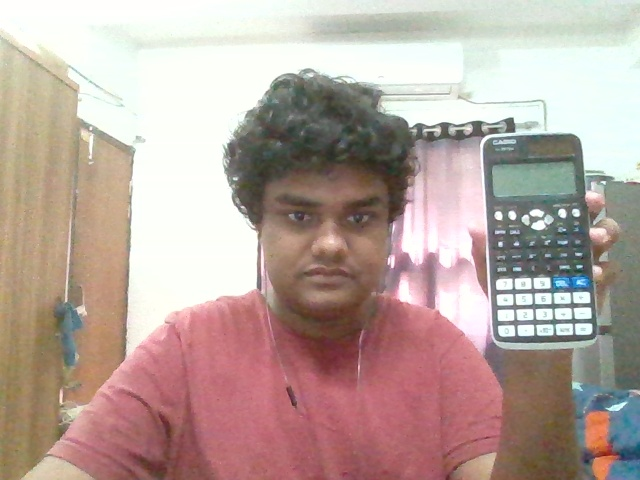calculator: (480, 131, 599, 350)
